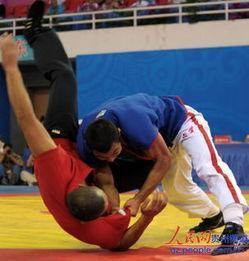Fall-Detected: (7, 8, 108, 243)
